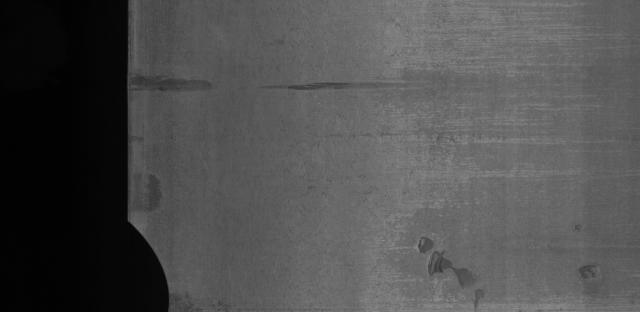crescent_gap: (111, 218, 182, 312)
